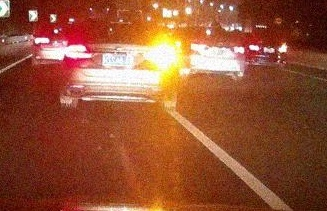L_light: (65, 44, 92, 59)
R_light: (146, 46, 175, 63)
T_light: (115, 26, 127, 30)
night-right: (62, 21, 177, 112)
